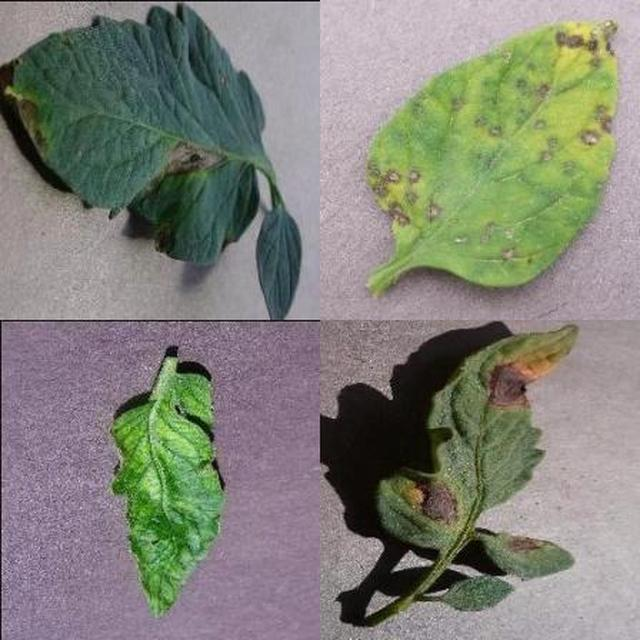Early Blight Leaf: (69, 161, 640, 640)
